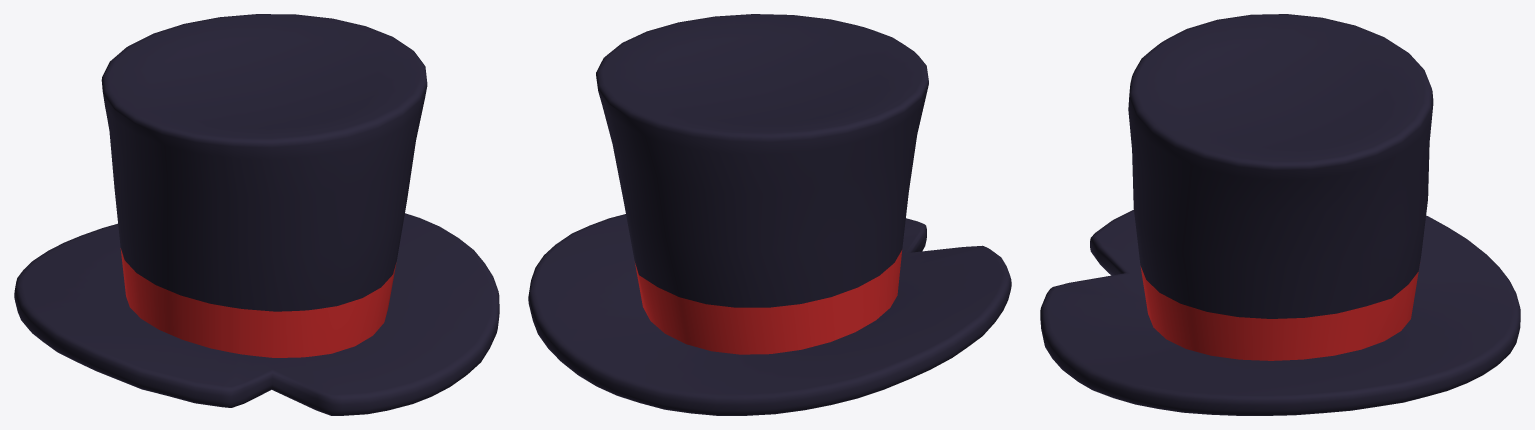
File: MagicianHat.fbx
The picture shows the model from 3 angles, left to right: view 1: azimuth 30°, elevation 25°; view 2: azimuth 150°, elevation 25°; view 3: azimuth 270°, elevation 25°; orthographic projection.
Visible parts, largest first — view 1: MagicianHat; view 2: MagicianHat; view 3: MagicianHat.
Boxes of the visible parts, x1=… form: MagicianHat: x1=14, y1=14, x2=499, y2=415; MagicianHat: x1=528, y1=14, x2=1011, y2=415; MagicianHat: x1=1040, y1=14, x2=1520, y2=415.
Bounding box in the file's own units: 43.92 × 25.52 × 43.98.
